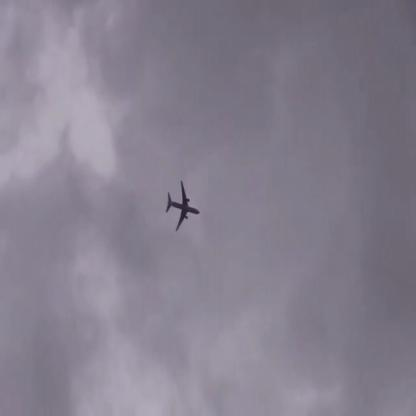CIV_Plane: (166, 181, 201, 230)
